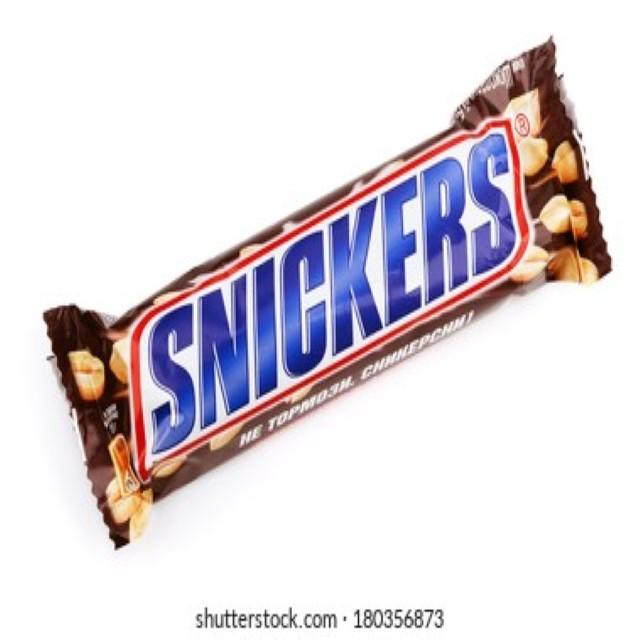snickers_chocolate: (82, 53, 575, 547)
